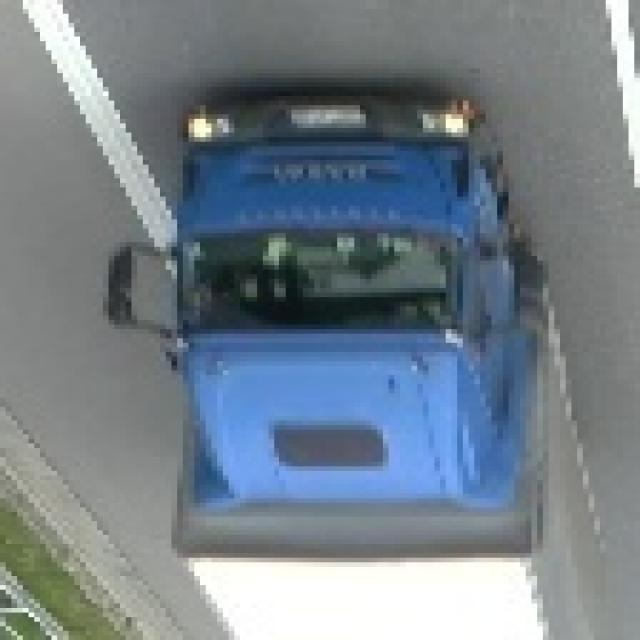truck: (114, 91, 612, 640)
